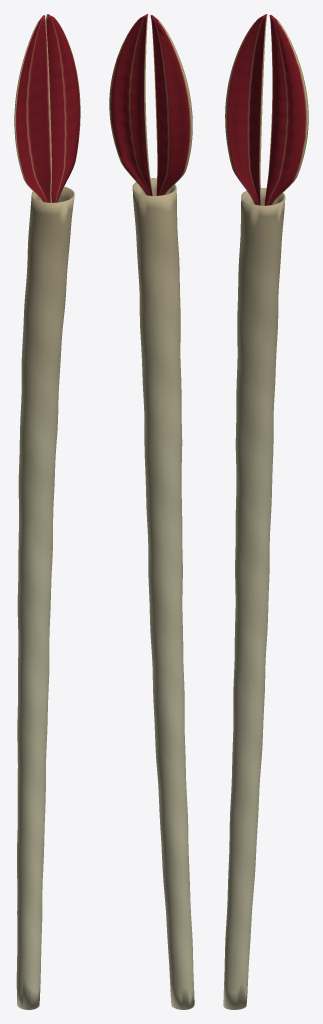
File: NEW689_Tubeworm_LOD1.glb
The picture shows the model from 3 angles, left to right: view 1: azimuth 30°, elevation 25°; view 2: azimuth 150°, elevation 25°; view 3: azimuth 330°, elevation 25°; orthographic projection.
Parts seen in each view (by area): view 1: Protective_tube, Branchial_lamella_left, Branchial_lamella_right; view 2: Protective_tube, Branchial_lamella_right, Branchial_lamella_left; view 3: Protective_tube, Branchial_lamella_right, Branchial_lamella_left.
Part boxes in pixels (x1,y1,x2,y2): Protective_tube: [16, 186, 74, 1009]; Branchial_lamella_left: [14, 15, 51, 202]; Branchial_lamella_right: [45, 14, 80, 202]; Protective_tube: [132, 178, 194, 1009]; Branchial_lamella_right: [109, 14, 153, 195]; Branchial_lamella_left: [150, 15, 192, 195]; Protective_tube: [223, 188, 285, 1009]; Branchial_lamella_right: [264, 15, 308, 205]; Branchial_lamella_left: [225, 14, 267, 205].
Size of the model in its own units: 0.0888 by 1.13 by 0.0492.
3 materials, 3 textured.
